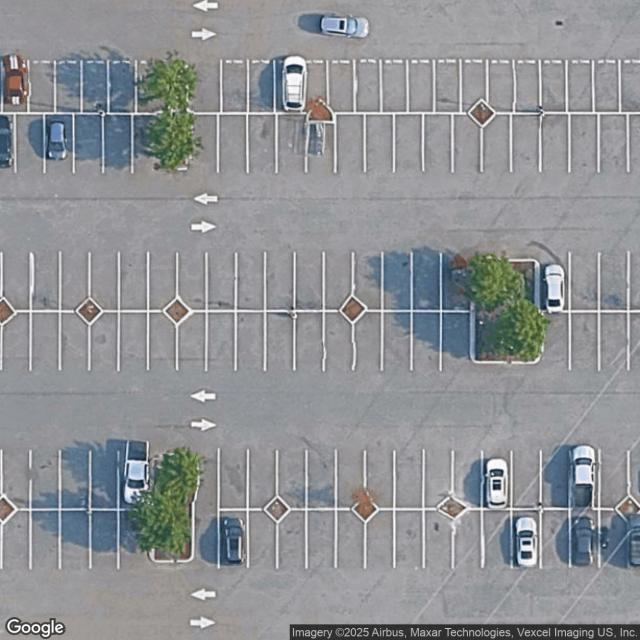car: (122, 438, 150, 502), (572, 445, 597, 501), (2, 54, 30, 104), (282, 58, 305, 113), (322, 17, 369, 41), (220, 517, 244, 564), (517, 514, 537, 568), (543, 264, 565, 313), (575, 514, 595, 567), (488, 459, 507, 509), (46, 120, 68, 160), (0, 116, 13, 168), (628, 526, 640, 566)
lot_boundary: (1, 1, 639, 639)
